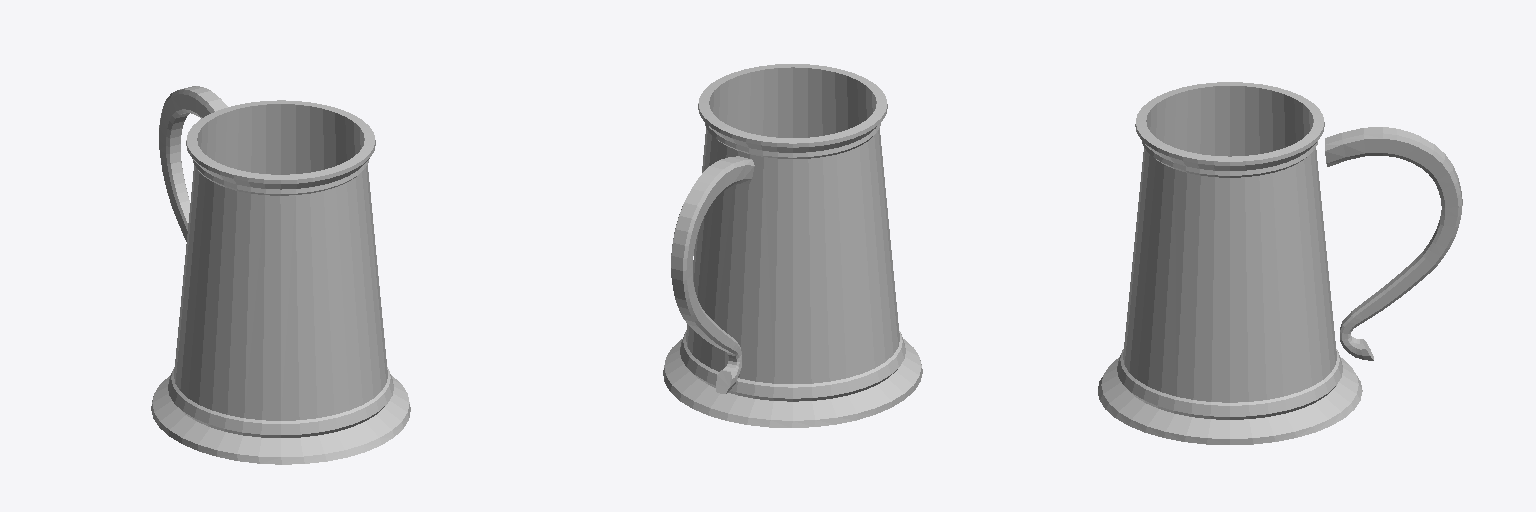
File: Beer Stein.obj
3 views of the same model, side by side, from view 1: azimuth 30°, elevation 25°; view 2: azimuth 150°, elevation 25°; view 3: azimuth 270°, elevation 25° (orthographic).
Visible parts, largest first — view 1: w_beer_stein; view 2: w_beer_stein; view 3: w_beer_stein.
Part boxes in pixels (left/top/right/bottom): w_beer_stein: left=151, top=86, right=410, bottom=464; w_beer_stein: left=663, top=64, right=922, bottom=427; w_beer_stein: left=1098, top=82, right=1462, bottom=444.
Bounding box in the file's own units: 12.16 × 14.02 × 17.2.